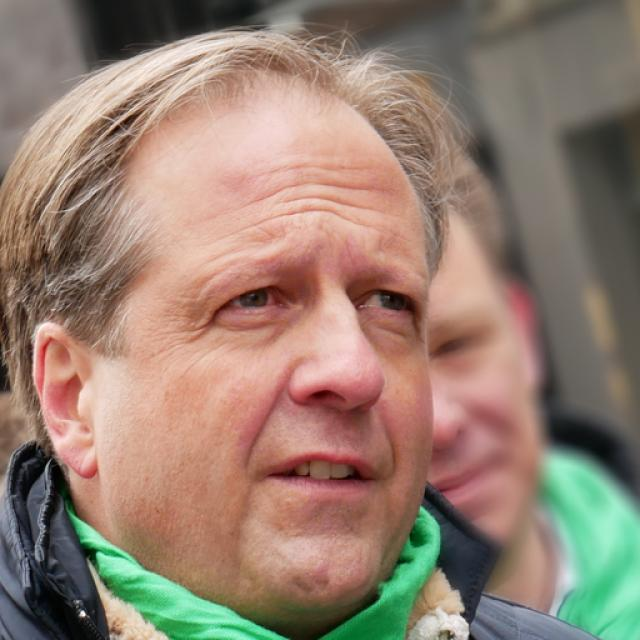Wrinkle: (212, 203, 389, 248), (229, 363, 297, 476), (248, 175, 387, 211), (260, 155, 379, 178)
